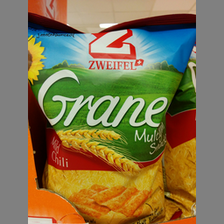chips: (28, 31, 195, 220)
